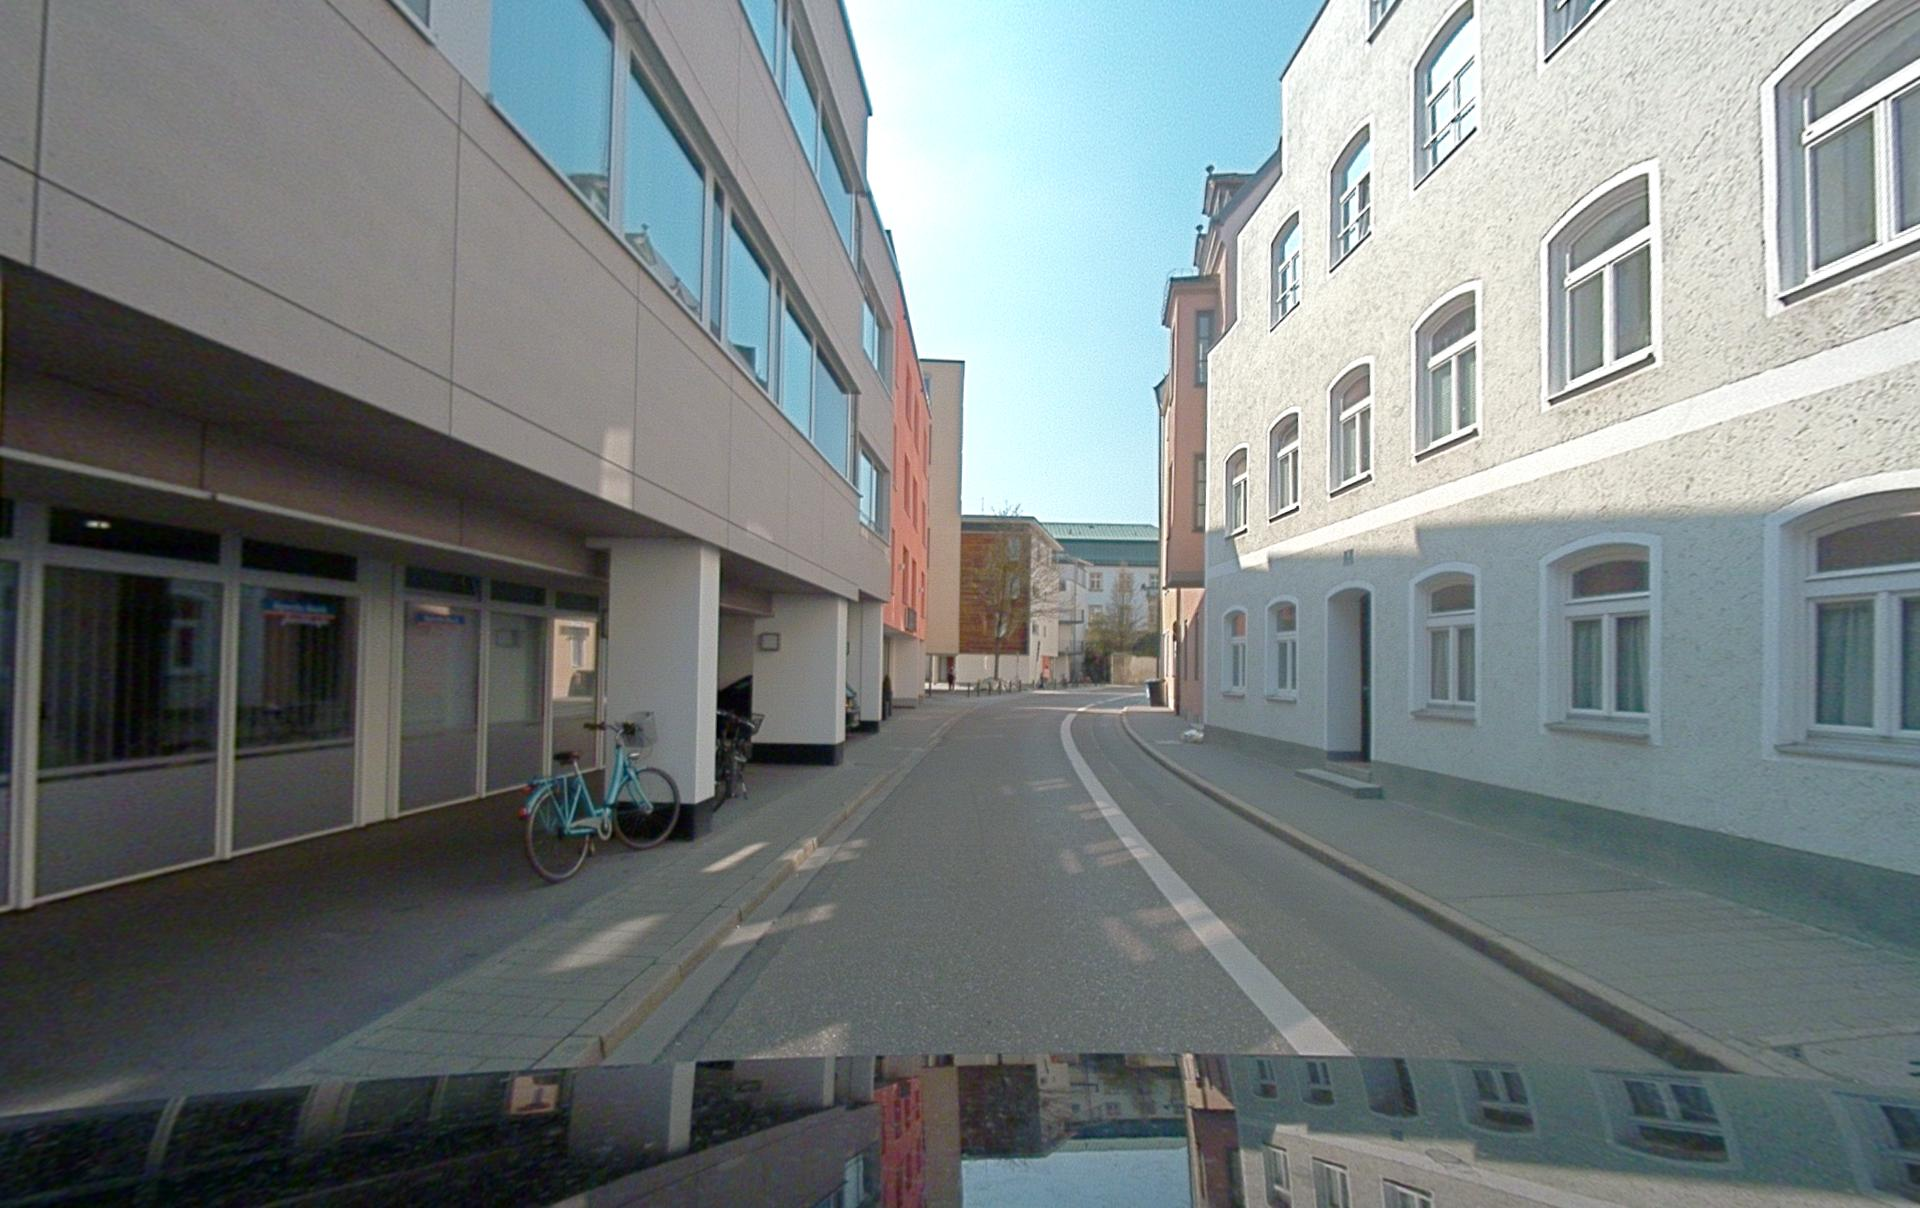car: (846, 682, 858, 729)
